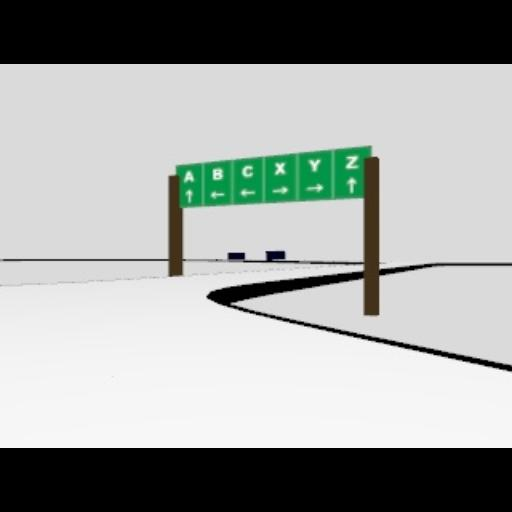A: (184, 170, 194, 184)
B: (212, 168, 224, 180)
C: (242, 164, 252, 178)
Left: (239, 188, 257, 196), (210, 190, 224, 198)
Right: (305, 182, 323, 192), (270, 186, 288, 194)
Straight: (346, 176, 356, 194), (185, 190, 193, 202)
X: (274, 162, 286, 174)
Y: (308, 158, 320, 172)
Z: (344, 156, 358, 168)
